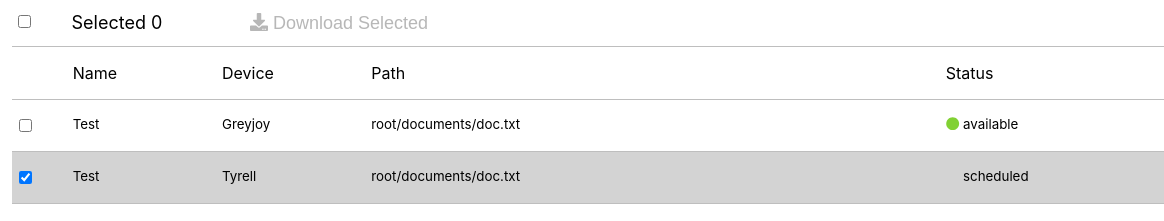
only enables the download button when an available file is selected
Expected: the number of checkboxes titled "Not Selected" is 1, [19,119,32,132]
Expected: the number of checkboxes titled "Is Selected" is 1, [19,171,32,184]
Click the text "available" at (982, 124), box [946,116,1018,132]
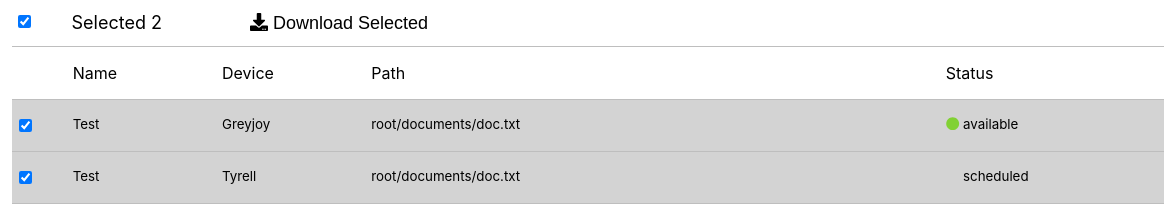
Now the button is enabled, box [244,12,434,34]
